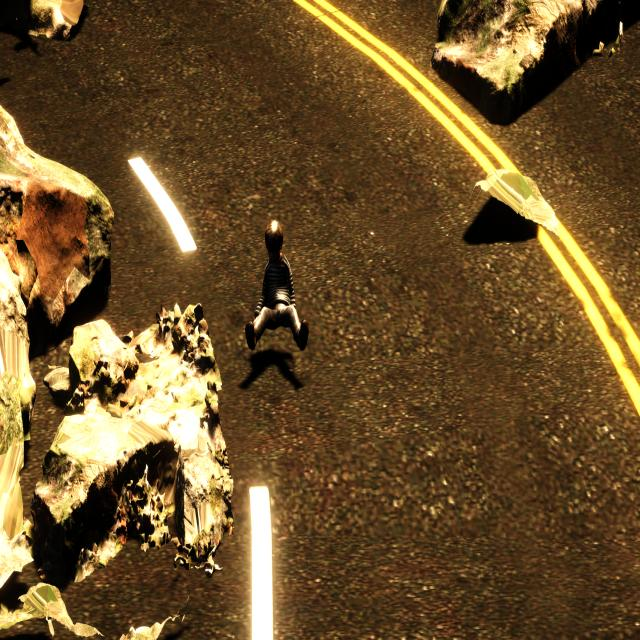Human: (243, 214, 311, 356)
